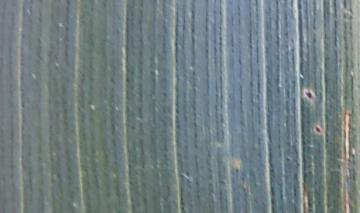tarspot: (302, 88, 315, 101), (312, 123, 323, 135)
